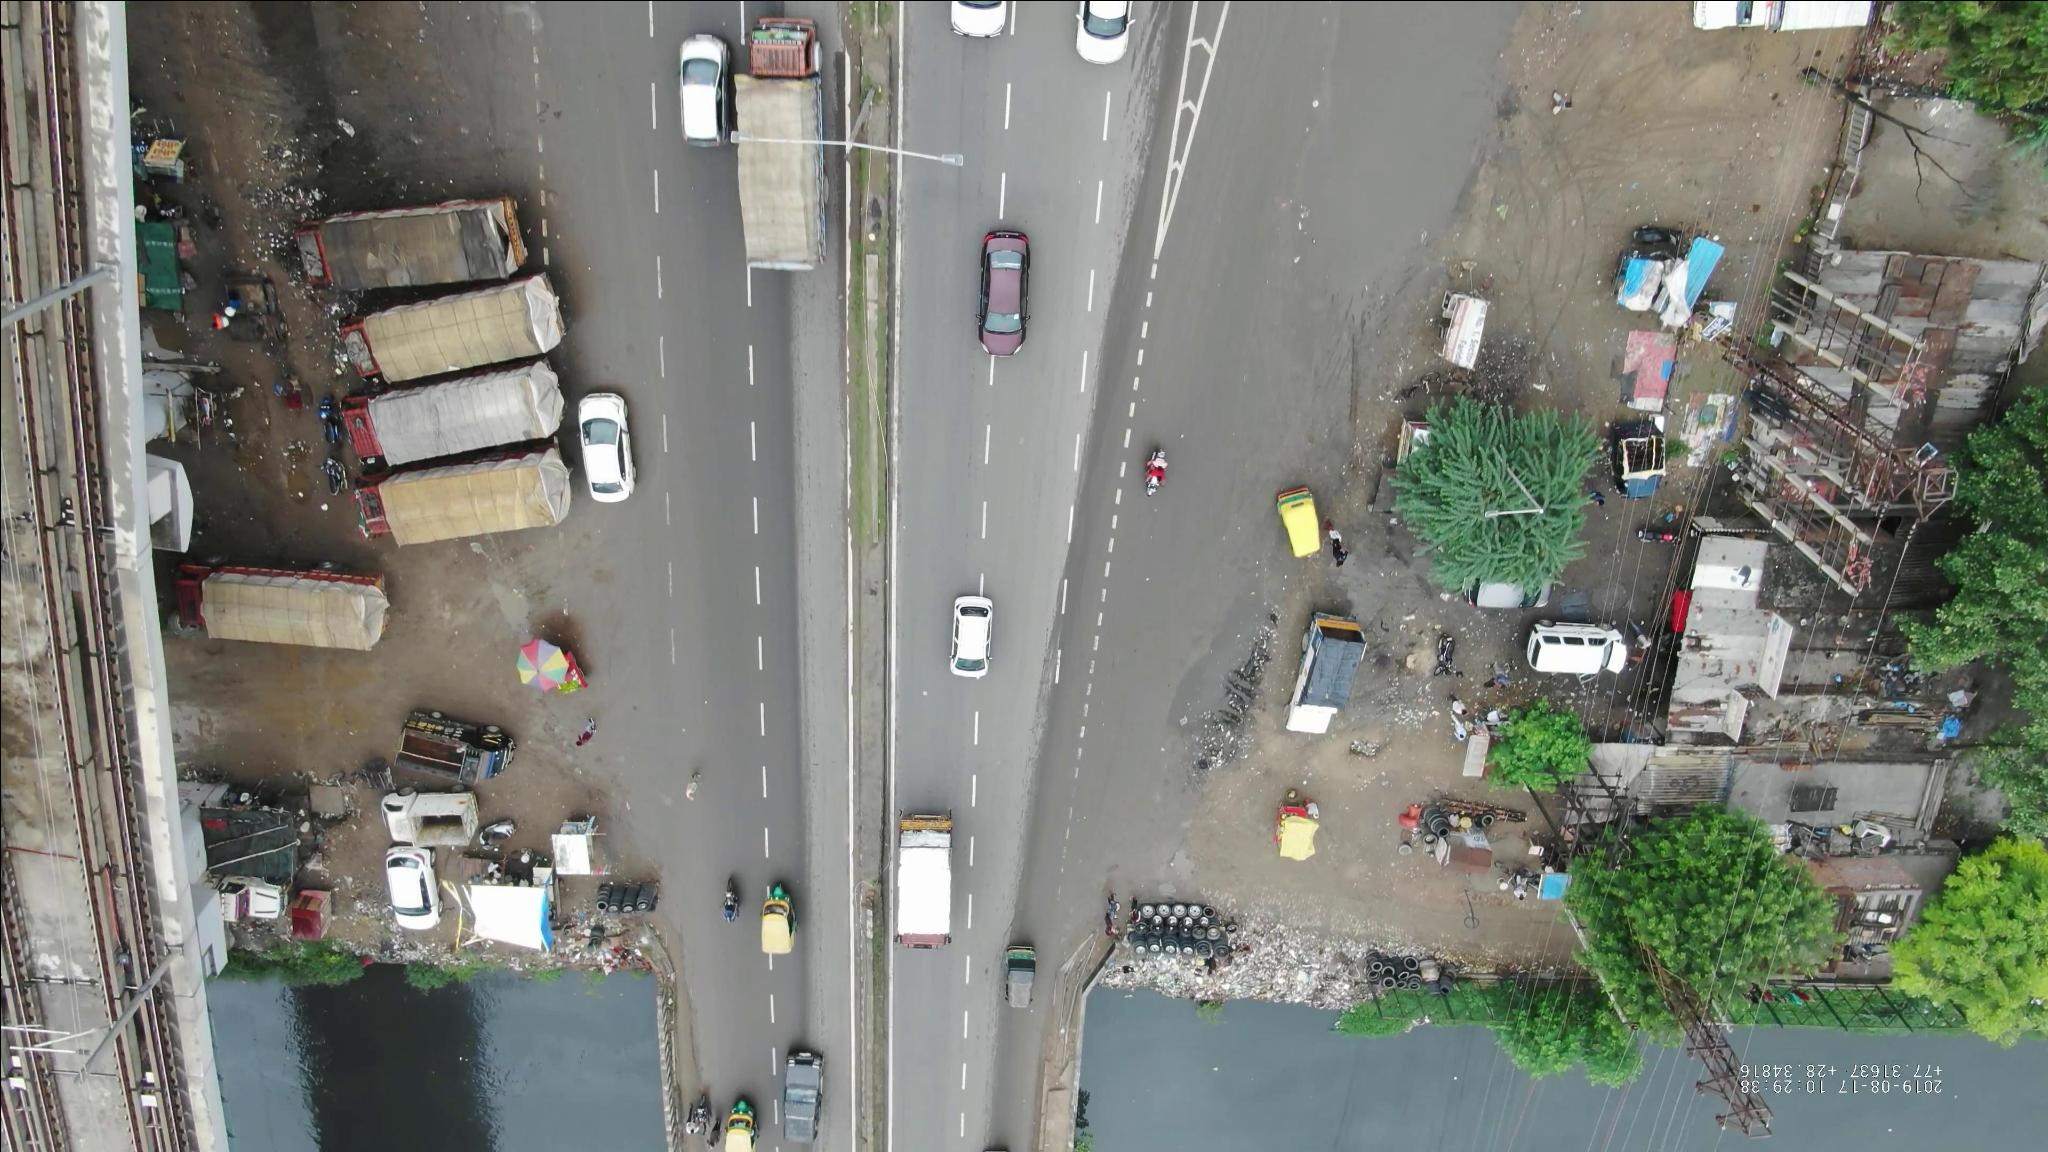Muddy_road: (249, 3, 412, 167), (1198, 634, 1274, 785)
Road_side_garbage: (1094, 892, 1371, 996)
